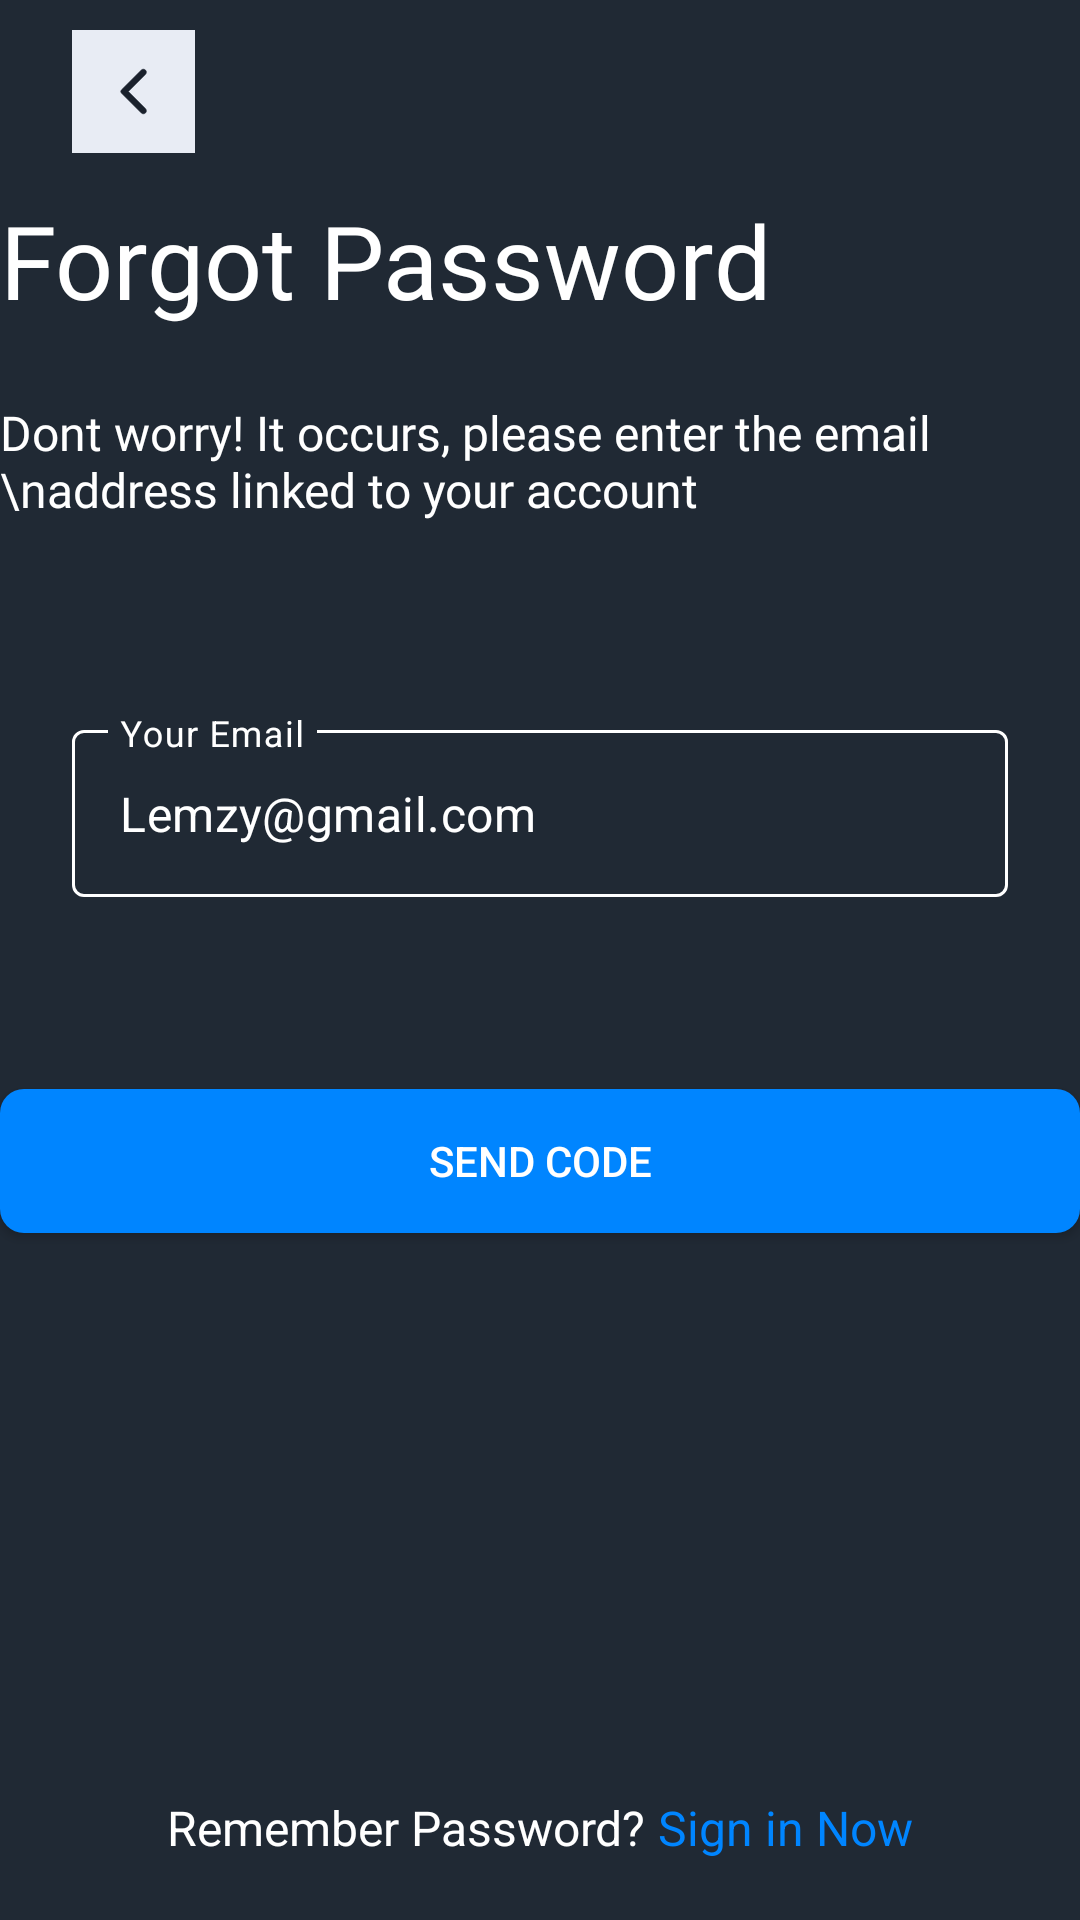

Icons on this 1080w x 1920h Android screen, each with its box as box=[x1, y1, x2, y2]:
back arrow: box=[120, 68, 147, 115]
